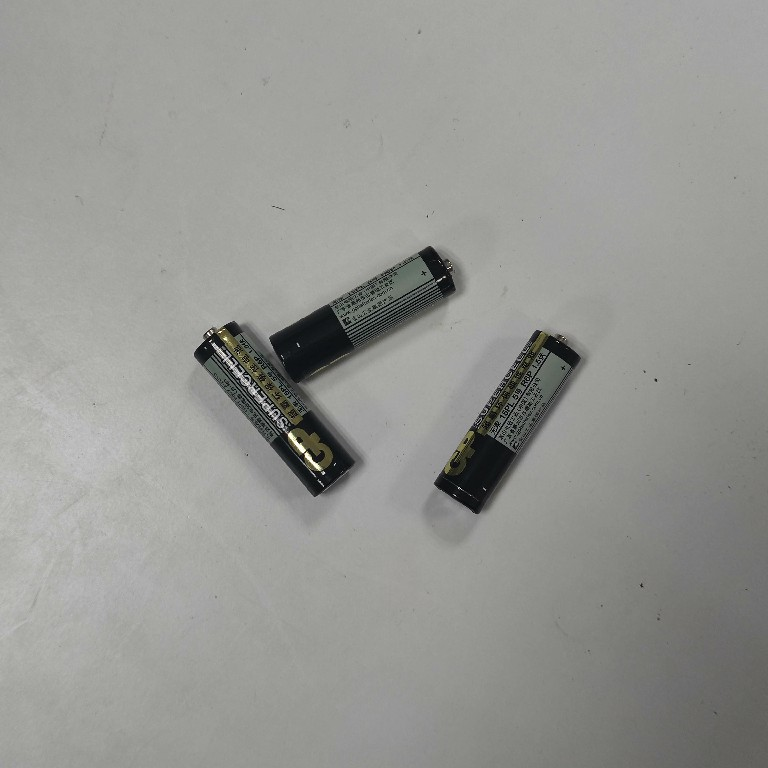charge: (193, 318, 361, 500), (431, 325, 585, 519), (265, 244, 458, 388)
